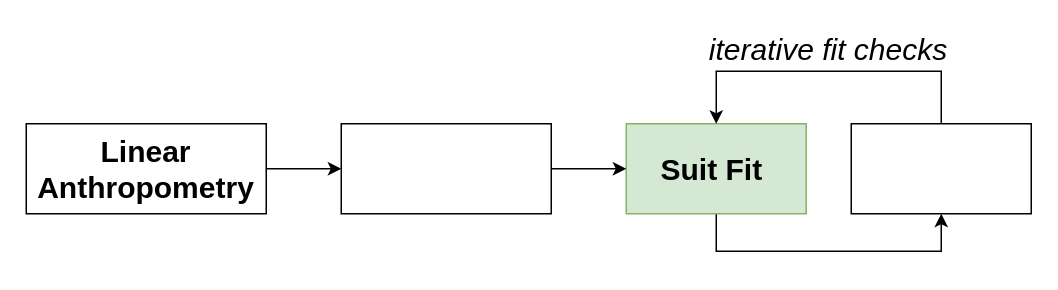
Some shapes in this 1058 by 290 pixel diagram are drawn without their labels. Each missing label, with the centre of its shape:
Operator Feedback: the point at 940,168
Sizing Algorithms: the point at 445,168
